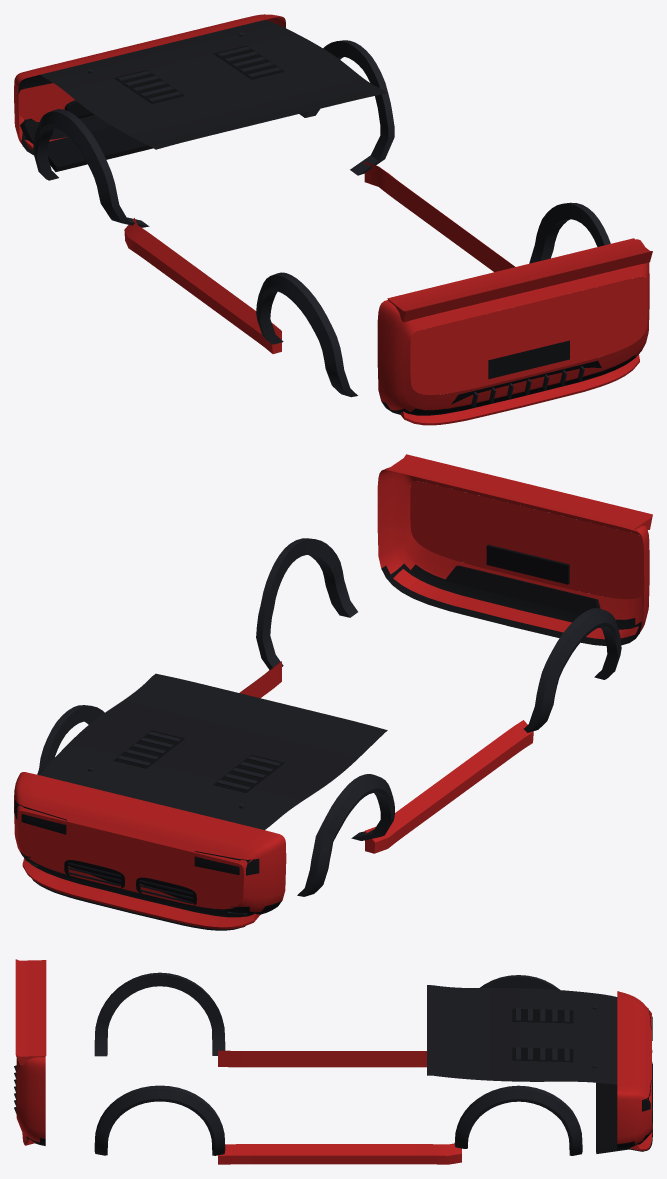
The model's file is kit_drift.glb.
The picture shows the model from 3 angles, top to bottom: view 1: azimuth 30°, elevation 25°; view 2: azimuth 150°, elevation 25°; view 3: azimuth 270°, elevation 25°; orthographic projection. The views are drawn at different scales.
Parts seen in each view (by area): view 1: hood__drift, bumper_front__drift, skirts__drift, bumper_rear__drift, spoiler__drift; view 2: bumper_front__drift, hood__drift, bumper_rear__drift, skirts__drift, spoiler__drift; view 3: skirts__drift, hood__drift, bumper_front__drift, spoiler__drift, bumper_rear__drift.
Boxes of the visible parts, box(x1,y1,x2,y2) form: hood__drift: box(40, 20, 387, 149); bumper_front__drift: box(14, 14, 647, 395); skirts__drift: box(33, 40, 610, 397); bumper_rear__drift: box(377, 239, 649, 425); spoiler__drift: box(387, 238, 652, 322); bumper_front__drift: box(14, 480, 644, 930); hood__drift: box(40, 673, 387, 829); bumper_rear__drift: box(377, 467, 649, 645); skirts__drift: box(37, 538, 621, 896); spoiler__drift: box(387, 454, 652, 529); skirts__drift: box(94, 972, 582, 1164); hood__drift: box(427, 985, 617, 1084); bumper_front__drift: box(596, 991, 652, 1153); spoiler__drift: box(15, 959, 46, 1065); bumper_rear__drift: box(14, 1056, 45, 1145).
Size of what is drawn, in the model's own units: 2.04 by 0.8622 by 4.6.
